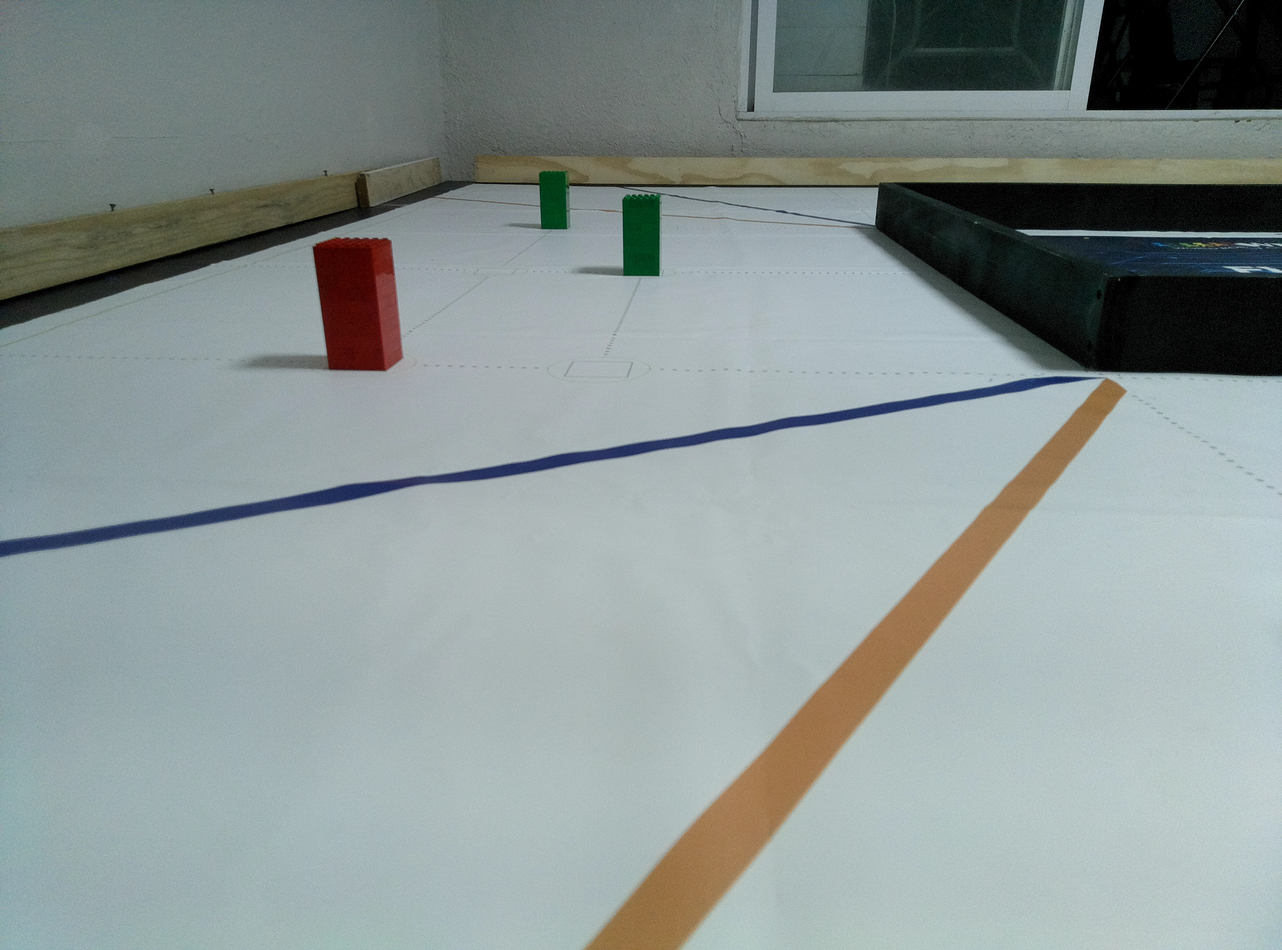greenbox: (621, 194, 661, 276), (539, 171, 571, 229)
redbox: (311, 237, 404, 372)
